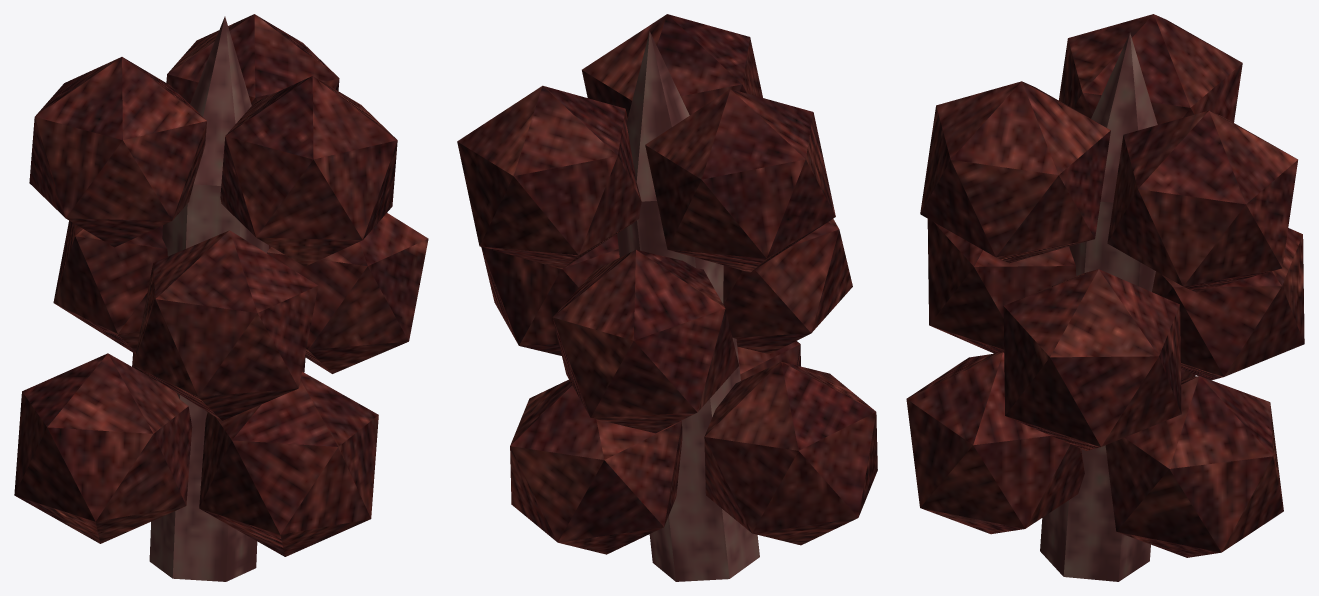
The model's file is PrickleburnFruit.glb.
The picture shows the model from 3 angles, left to right: view 1: azimuth 30°, elevation 25°; view 2: azimuth 150°, elevation 25°; view 3: azimuth 270°, elevation 25°; orthographic projection. The views are drawn at different scales.
Visible parts, largest first — view 1: Burstberry; view 2: Burstberry; view 3: Burstberry.
Part boxes in pixels (x1=…): Burstberry: x1=14, y1=14, x2=428, y2=581; Burstberry: x1=457, y1=14, x2=877, y2=581; Burstberry: x1=906, y1=14, x2=1304, y2=581.
Bounding box in the file's own units: 0.4222 × 0.5697 × 0.3749.
2 materials, 2 textured.
